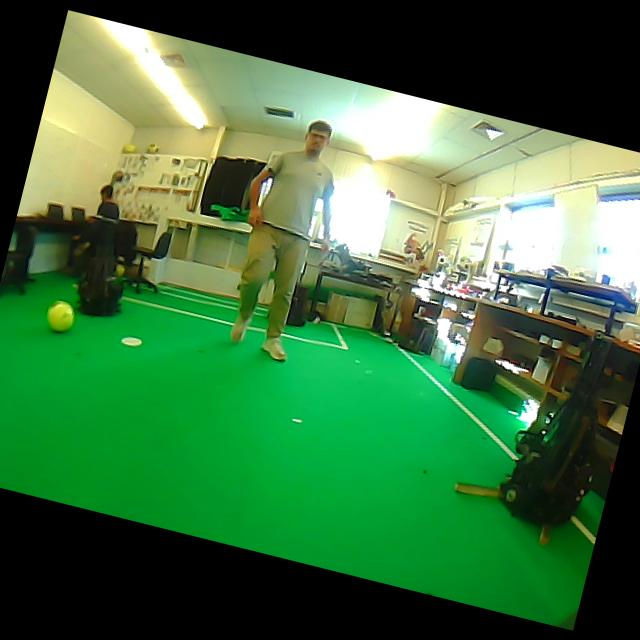ball: (46, 300, 74, 332), (114, 263, 125, 277), (122, 143, 135, 153), (146, 143, 158, 153)
robot: (499, 334, 611, 525), (77, 252, 123, 316)
